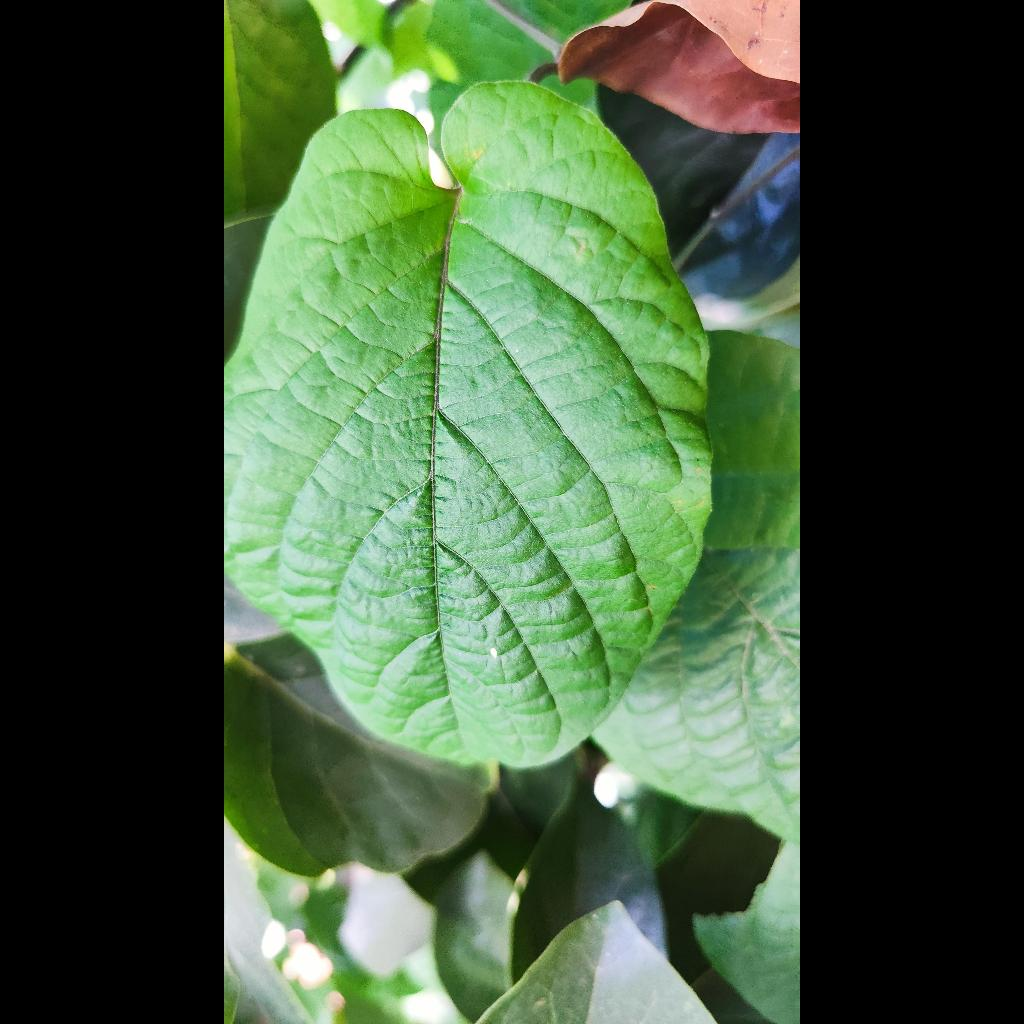nutrient_deficiency: (224, 82, 710, 767)
